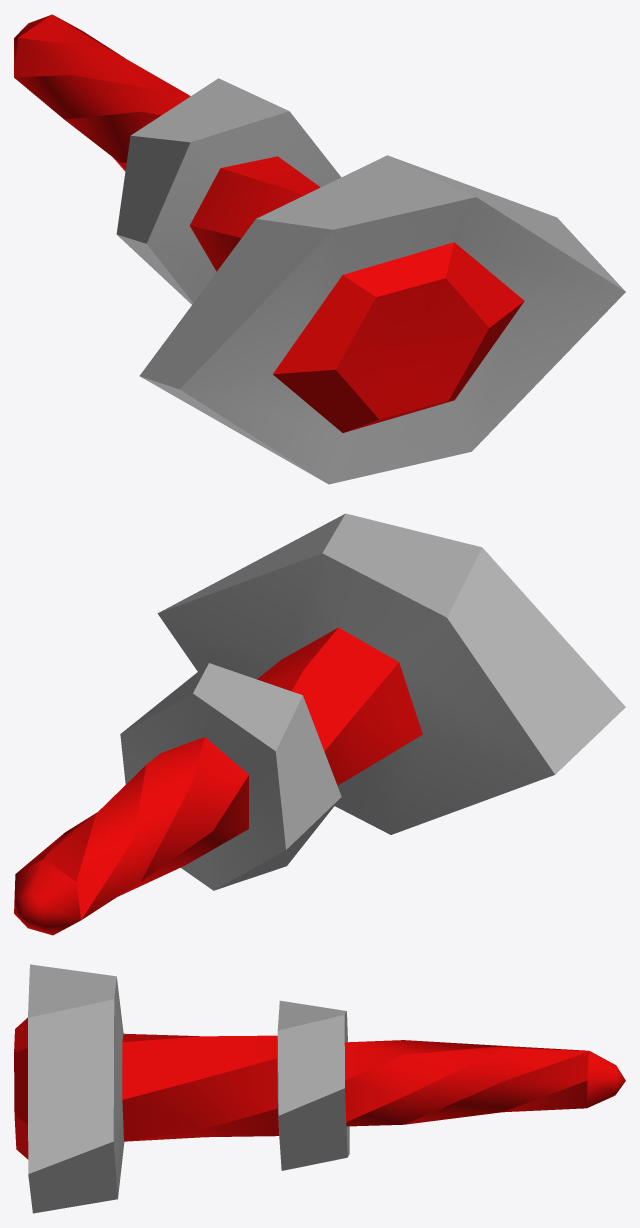
File: SM_RamSpike.fbx
3 renders of one model, top to bottom at view 1: azimuth 30°, elevation 25°; view 2: azimuth 150°, elevation 25°; view 3: azimuth 270°, elevation 25°, orthographic. The views are drawn at different scales.
Parts seen in each view (by area): view 1: pCylinder1; view 2: pCylinder1; view 3: pCylinder1.
Part boxes in pixels (left/top/right/bottom): pCylinder1: left=14, top=14, right=625, bottom=484; pCylinder1: left=14, top=513, right=625, bottom=935; pCylinder1: left=14, top=964, right=625, bottom=1213.
Size of the model in its own units: 360 by 209 by 565.
